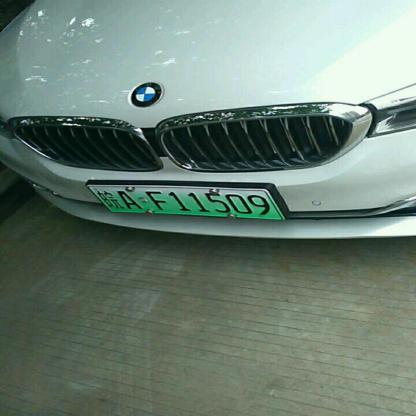lp: (89, 186, 282, 218)
